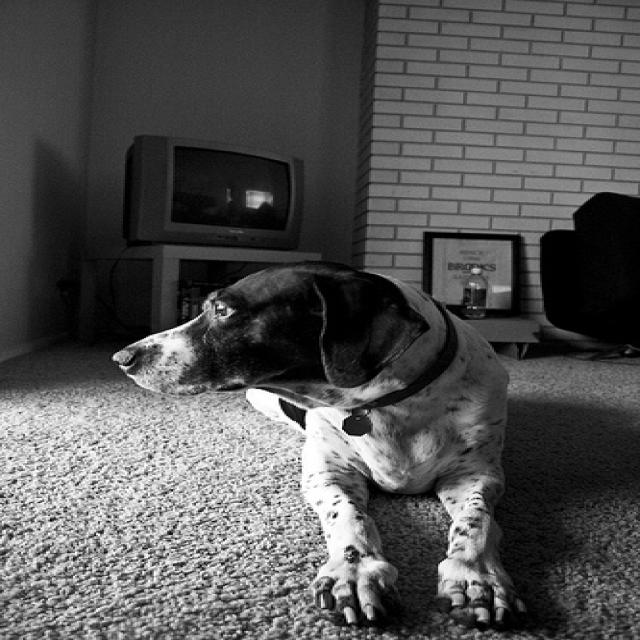dog-german_shorthaired: (108, 265, 523, 636)
